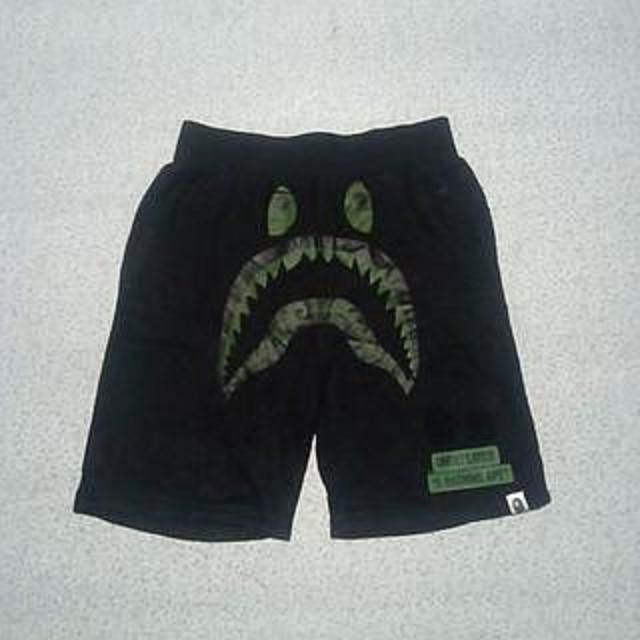SHORT: (73, 112, 563, 550)
